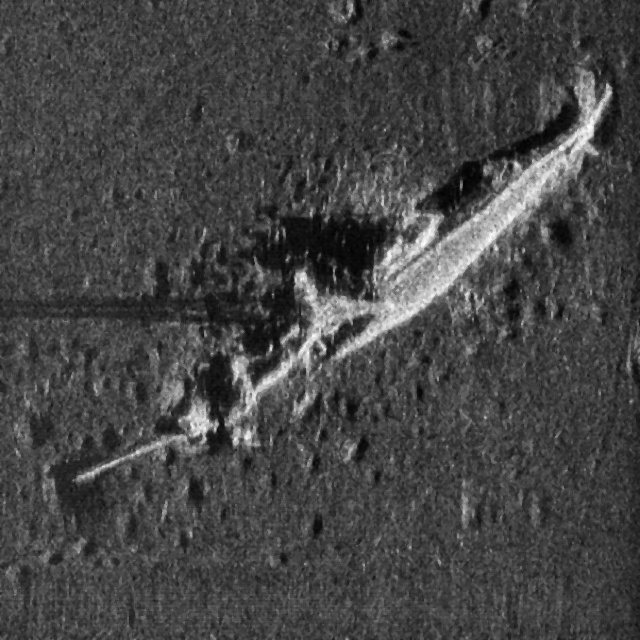Ship: (61, 58, 618, 502)
